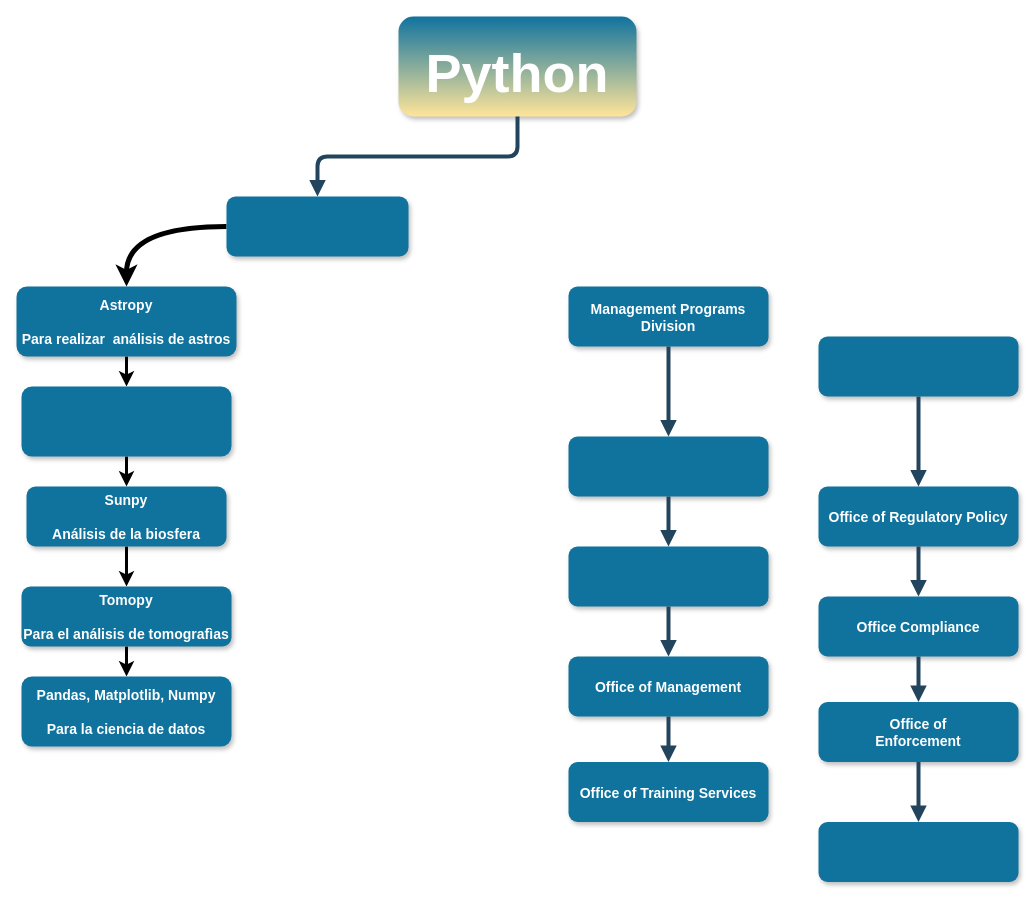
Image size: 1035x898. Some labels were removed from this diagram. Each missing label, with the centre of its shape:
Biopython Para biología computacional: point 127,422
Ciencias: point 318,227
Office of Financial Management: point 669,467
Office of Human Resources: point 669,577
Office of Regulatory Support: point 919,853
Regulatory and Enforcement Division: point 919,367
